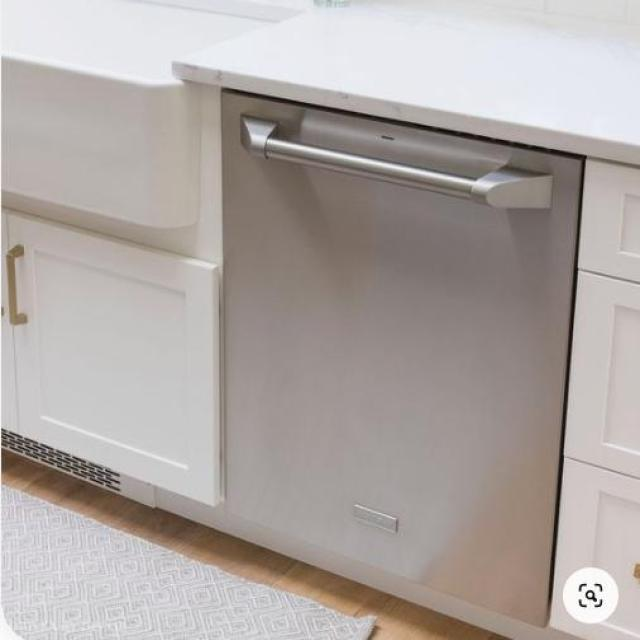dishwasher: (220, 86, 583, 634)
